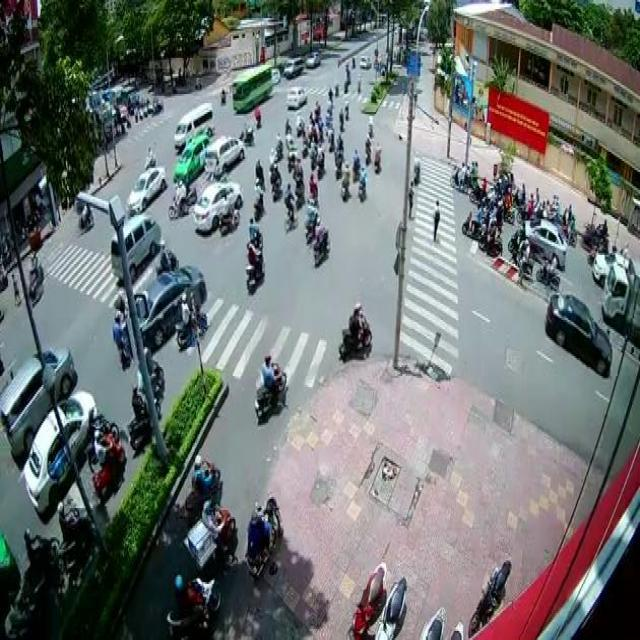bus: (230, 61, 272, 110)
car: (22, 390, 96, 510), (0, 347, 74, 456), (544, 291, 612, 376), (140, 262, 205, 349), (192, 181, 242, 233), (523, 219, 566, 269), (125, 164, 166, 213), (171, 134, 208, 182), (204, 134, 244, 174)
motorcycle: (337, 298, 372, 360), (254, 351, 285, 416), (311, 215, 331, 268), (253, 178, 264, 222)
truck: (108, 212, 160, 280), (601, 255, 640, 329), (174, 100, 214, 146)
